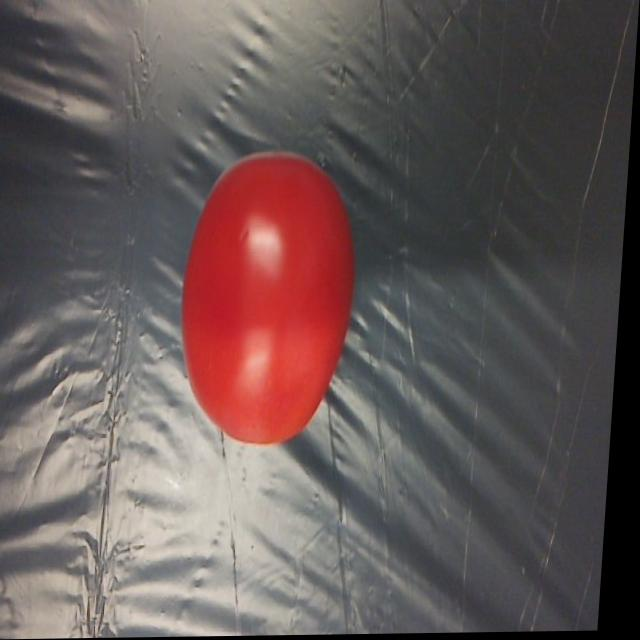kirmizi: (173, 154, 376, 461)
